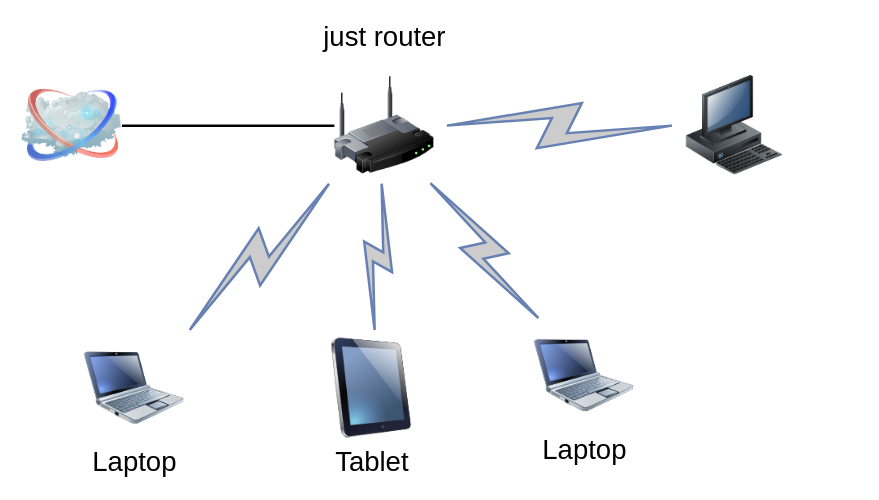
Some shapes in this 879 by 500 pixel diagram are drawn without their labels. Here are the shapes that lost their labels. From the top down, the centre of each, then its label:
At [71,125]: "Internet".
At [734,125]: "acts as a dns server".
